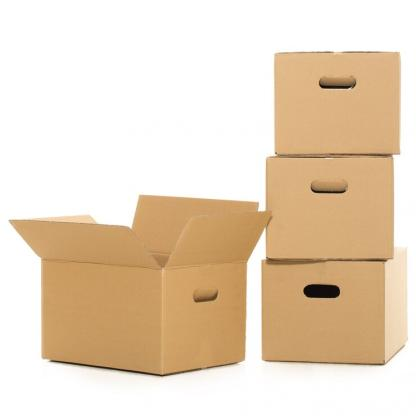box: (40, 261, 162, 375), (264, 154, 394, 260), (273, 50, 400, 156), (261, 259, 386, 366)
